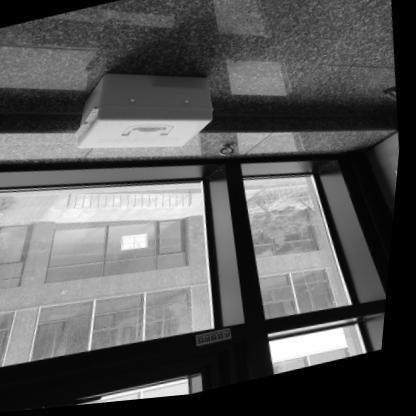DDL: (65, 51, 223, 174)
